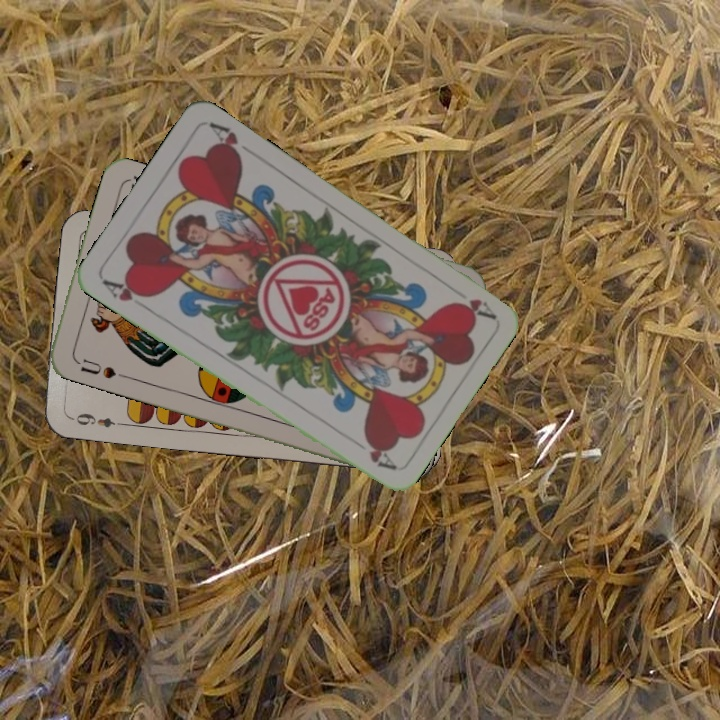E9: (66, 409, 125, 430)
HA: (98, 275, 153, 313), (448, 294, 497, 322)
SU: (71, 354, 119, 381)
